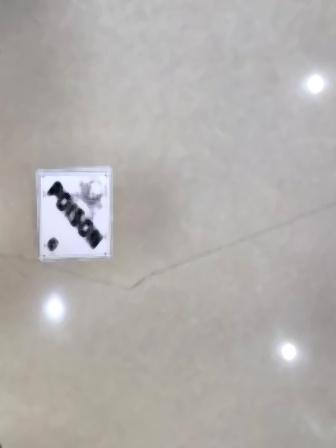poison: (35, 165, 114, 261)
